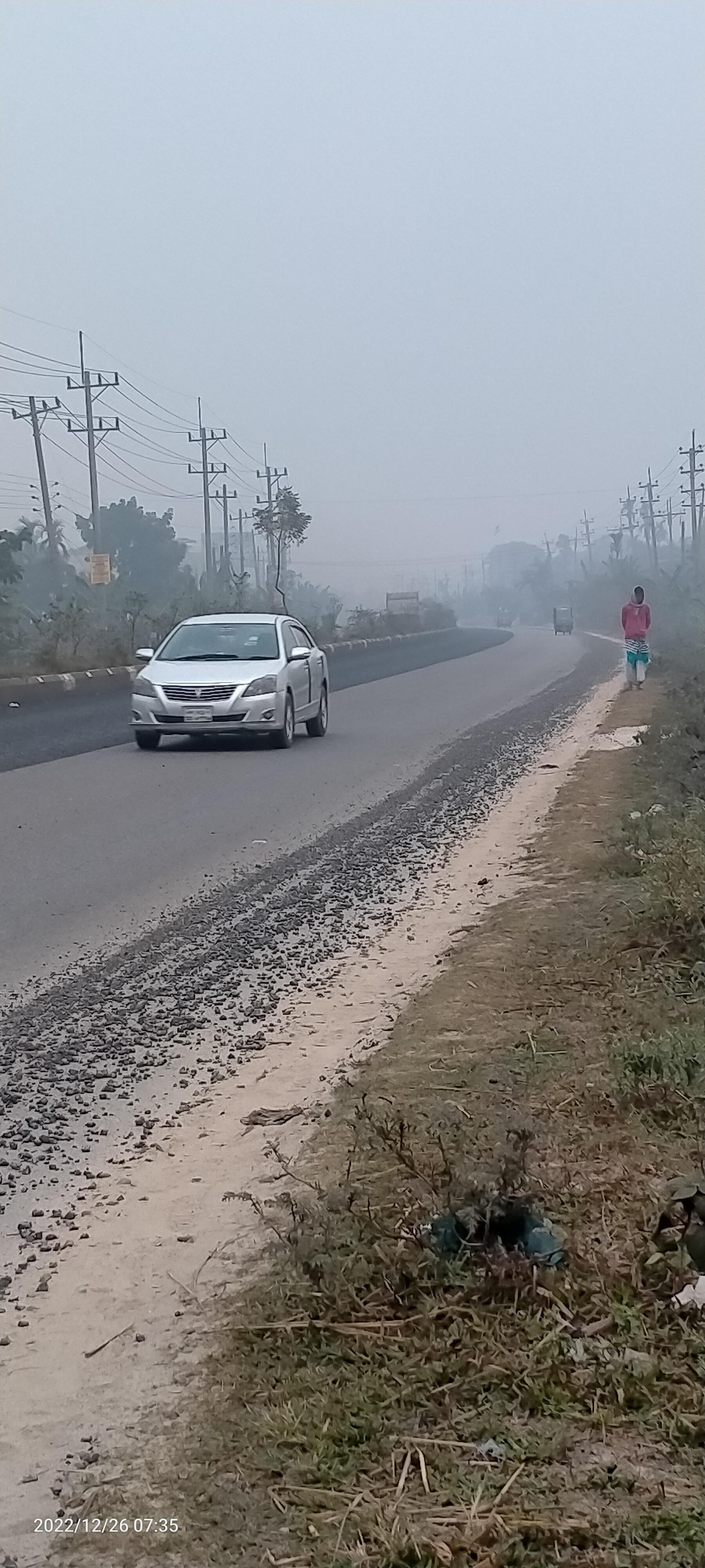Car: (118, 594, 343, 810), (548, 596, 579, 644)
Truck: (382, 584, 425, 631)
